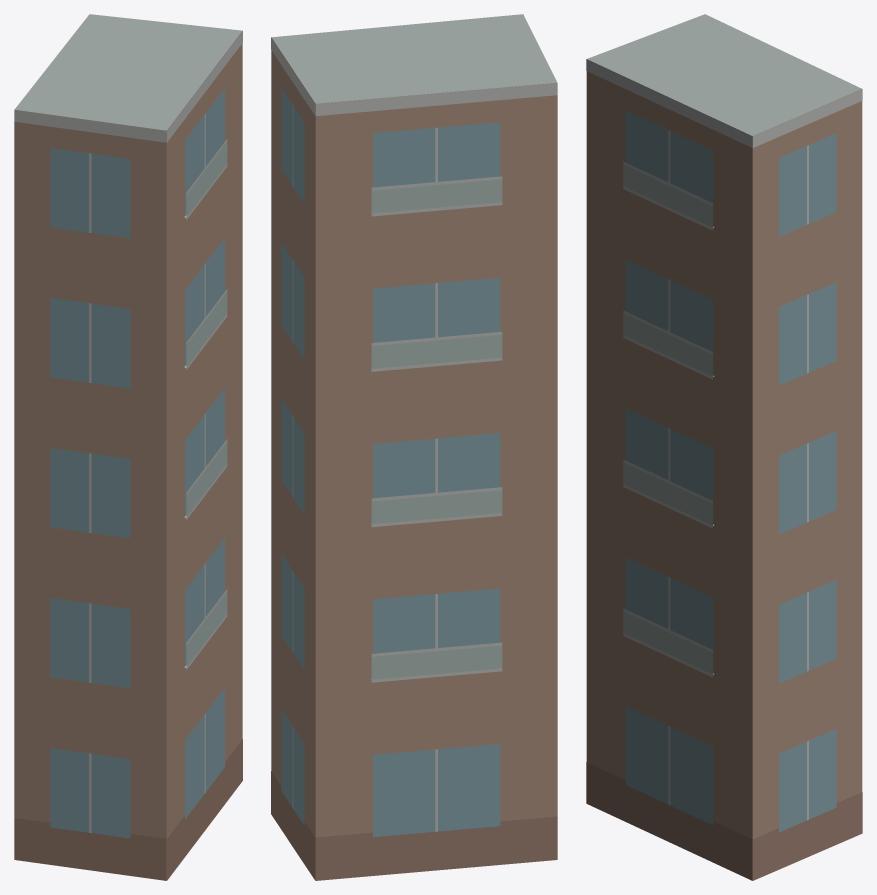
Rendered from survey-upis-32816445.glb.
3 renders of one model, left to right at view 1: azimuth 30°, elevation 25°; view 2: azimuth 150°, elevation 25°; view 3: azimuth 270°, elevation 25°, orthographic. The views are drawn at different scales.
Parts seen in each view (by area): view 1: survey-upis-32816445.tmp; view 2: survey-upis-32816445.tmp; view 3: survey-upis-32816445.tmp.
Part boxes in pixels (box(x1,y1,x2,y2)): survey-upis-32816445.tmp: box(14, 14, 242, 880); survey-upis-32816445.tmp: box(271, 14, 557, 880); survey-upis-32816445.tmp: box(586, 14, 862, 880).
Size of the model in its own units: 5.38 by 15.25 by 5.13.
